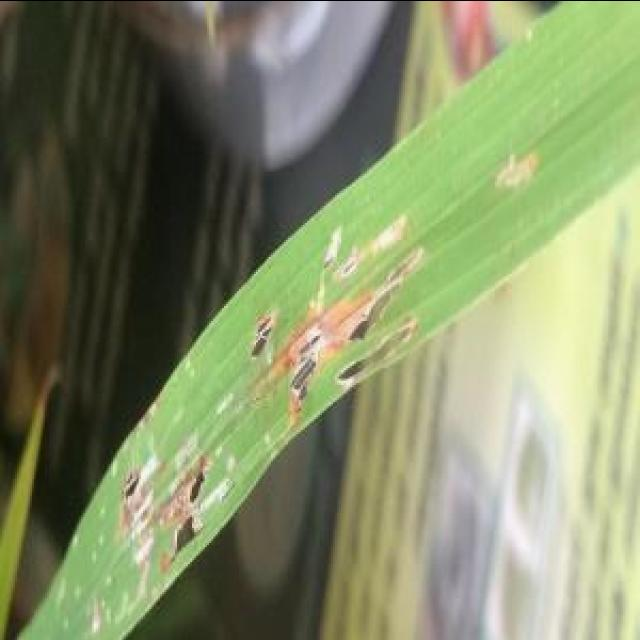Brown_Spot: (246, 232, 457, 388)
